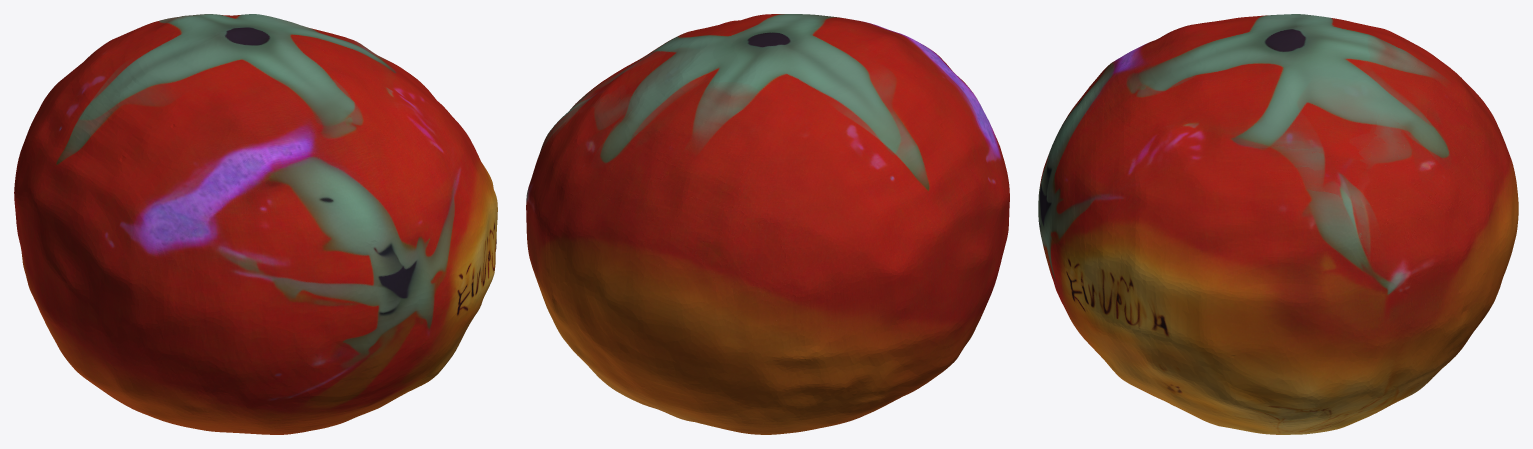
File: image_0000_segmented.glb
The picture shows the model from 3 angles, left to right: view 1: azimuth 30°, elevation 25°; view 2: azimuth 150°, elevation 25°; view 3: azimuth 270°, elevation 25°; orthographic projection. The views are drawn at different scales.
Visible parts, largest first — view 1: tmpglxxc_3w.ply; view 2: tmpglxxc_3w.ply; view 3: tmpglxxc_3w.ply.
Boxes of the visible parts, x1,y1,x2,y2 form: tmpglxxc_3w.ply: (14, 14, 497, 434); tmpglxxc_3w.ply: (526, 14, 1009, 434); tmpglxxc_3w.ply: (1038, 14, 1518, 434).
Bounding box in the file's own units: 1.89 × 1.62 × 1.99.
1 material, 1 textured.
